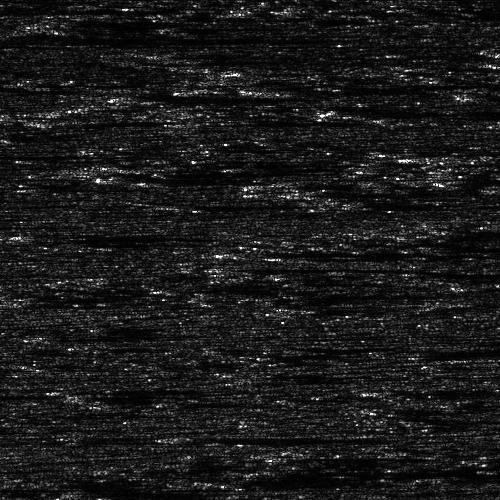object: (78, 89, 171, 100), (212, 261, 265, 272), (261, 186, 324, 195), (256, 251, 297, 254)
shadow: (124, 89, 301, 100), (239, 261, 415, 272), (293, 186, 500, 195), (0, 5, 173, 14), (0, 37, 304, 42), (277, 251, 500, 254), (0, 162, 39, 167)
